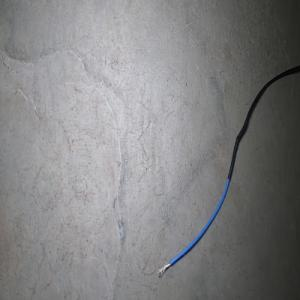Wire: (157, 63, 300, 276)
